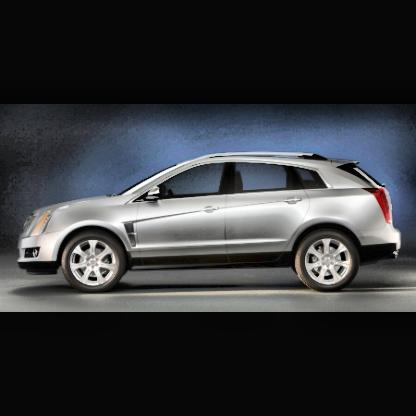Cadillac SRX SUV 2012: (21, 149, 402, 295)
